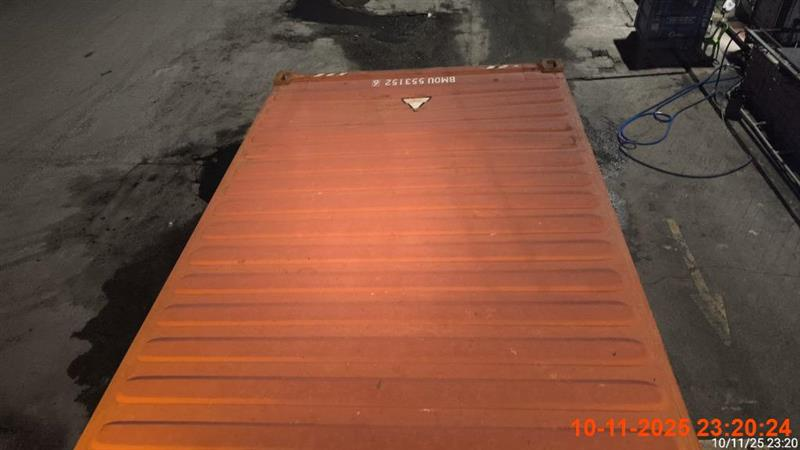broken: (75, 61, 701, 443)
